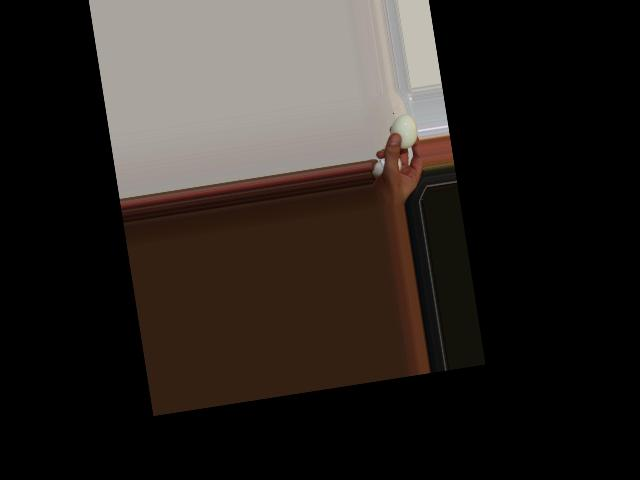egg: (387, 113, 420, 150)
